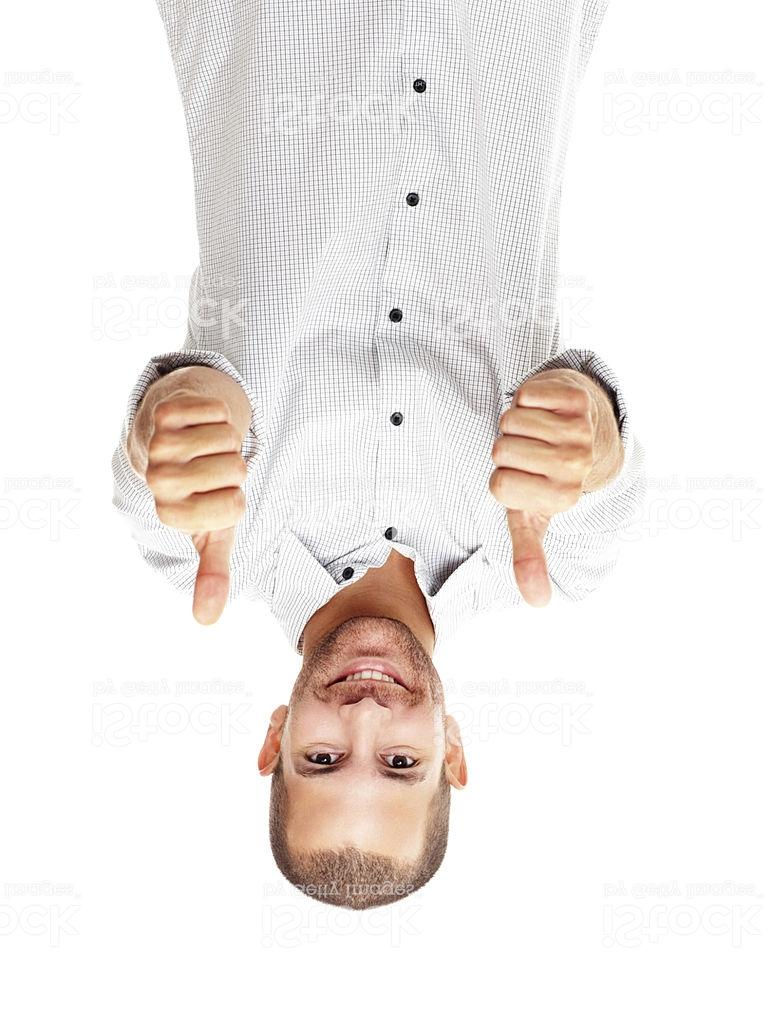thumbsdown: (485, 371, 598, 609), (144, 391, 248, 628)
